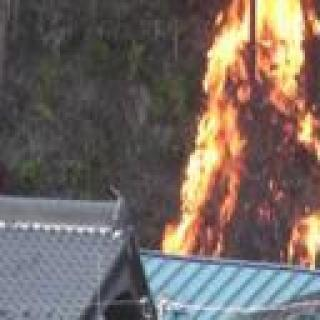fire: (172, 0, 320, 261)
